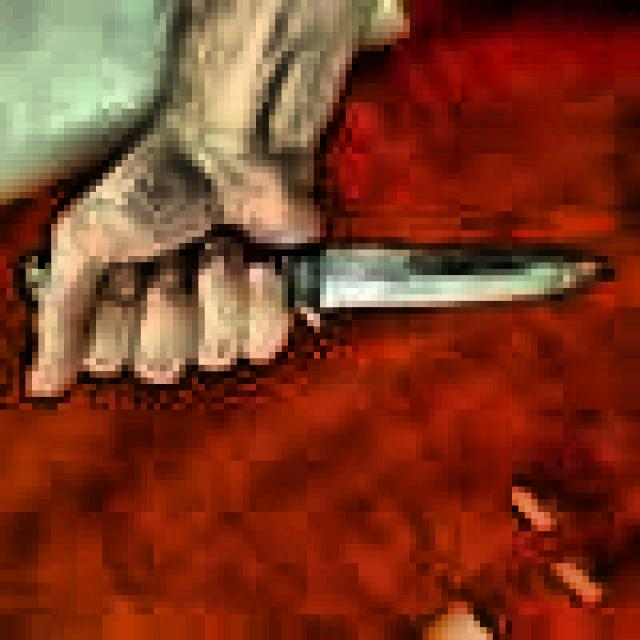knife: (34, 235, 598, 333)
